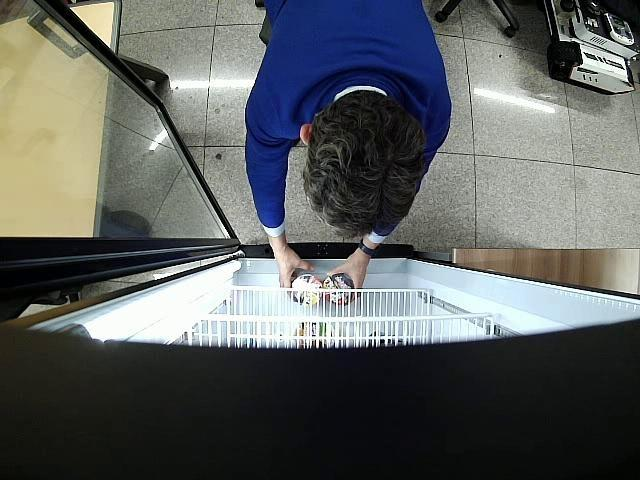08_buldak_S: (292, 269, 324, 305), (323, 272, 354, 304)
